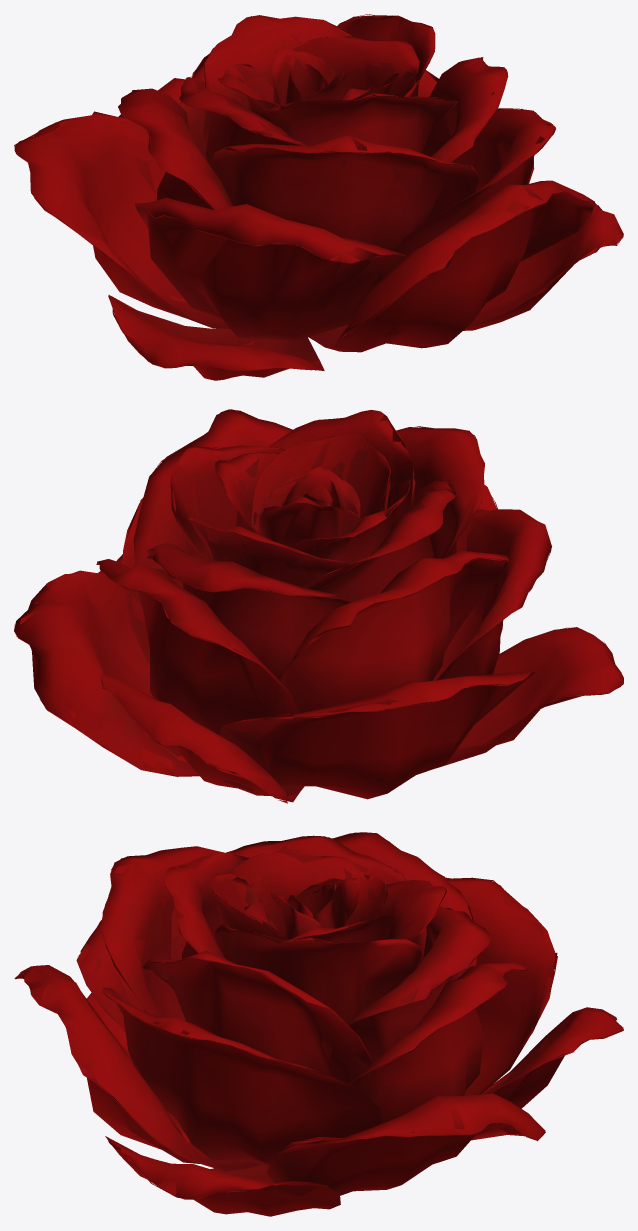
Rendered from rose-rot.glb.
3 views of the same model, one above another, from view 1: azimuth 30°, elevation 25°; view 2: azimuth 150°, elevation 25°; view 3: azimuth 270°, elevation 25° (orthographic). The views are drawn at different scales.
Parts seen in each view (by area): view 1: rose-rot; view 2: rose-rot; view 3: rose-rot.
Boxes of the visible parts, x1,y1,x2,y2 form: rose-rot: (14,14,623,380); rose-rot: (14,409,623,803); rose-rot: (14,832,623,1216).
Size of the model in its own units: 0.3902 by 0.2146 by 0.4138.
1 material, 1 textured.
